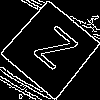Z: (26, 24, 79, 79)
